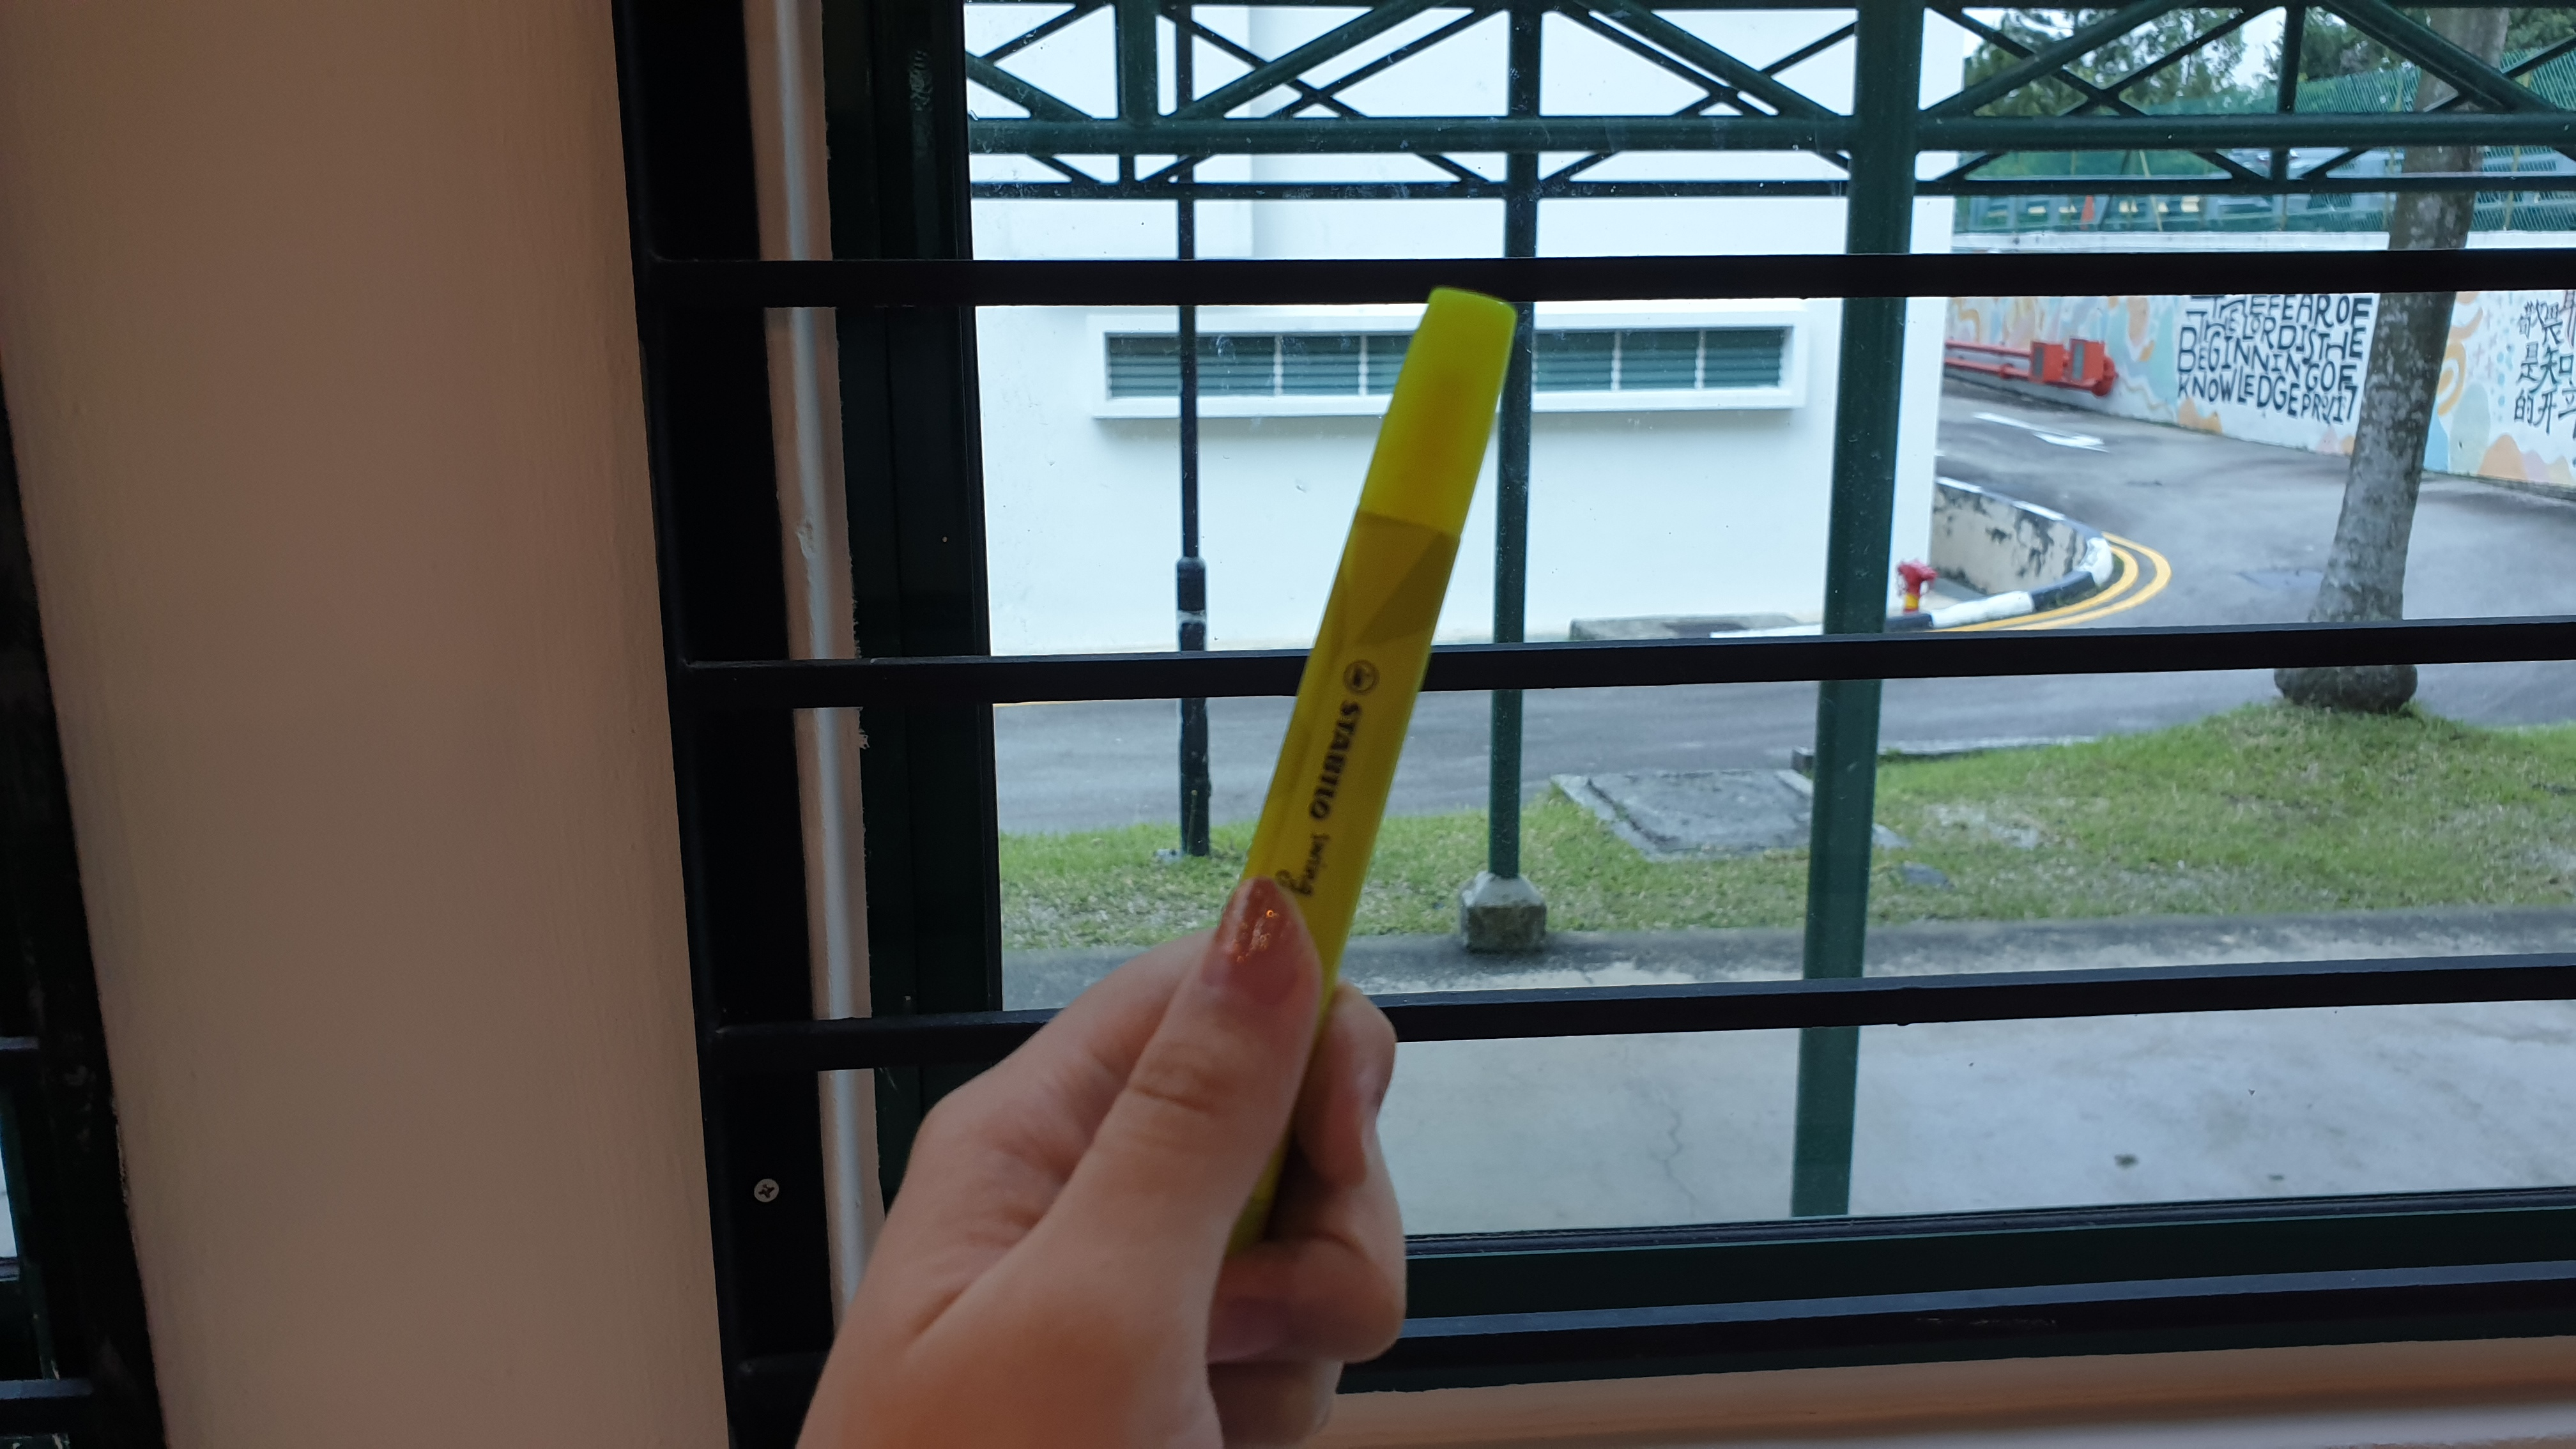yellow_highlighter: (1240, 285, 1518, 1026)
